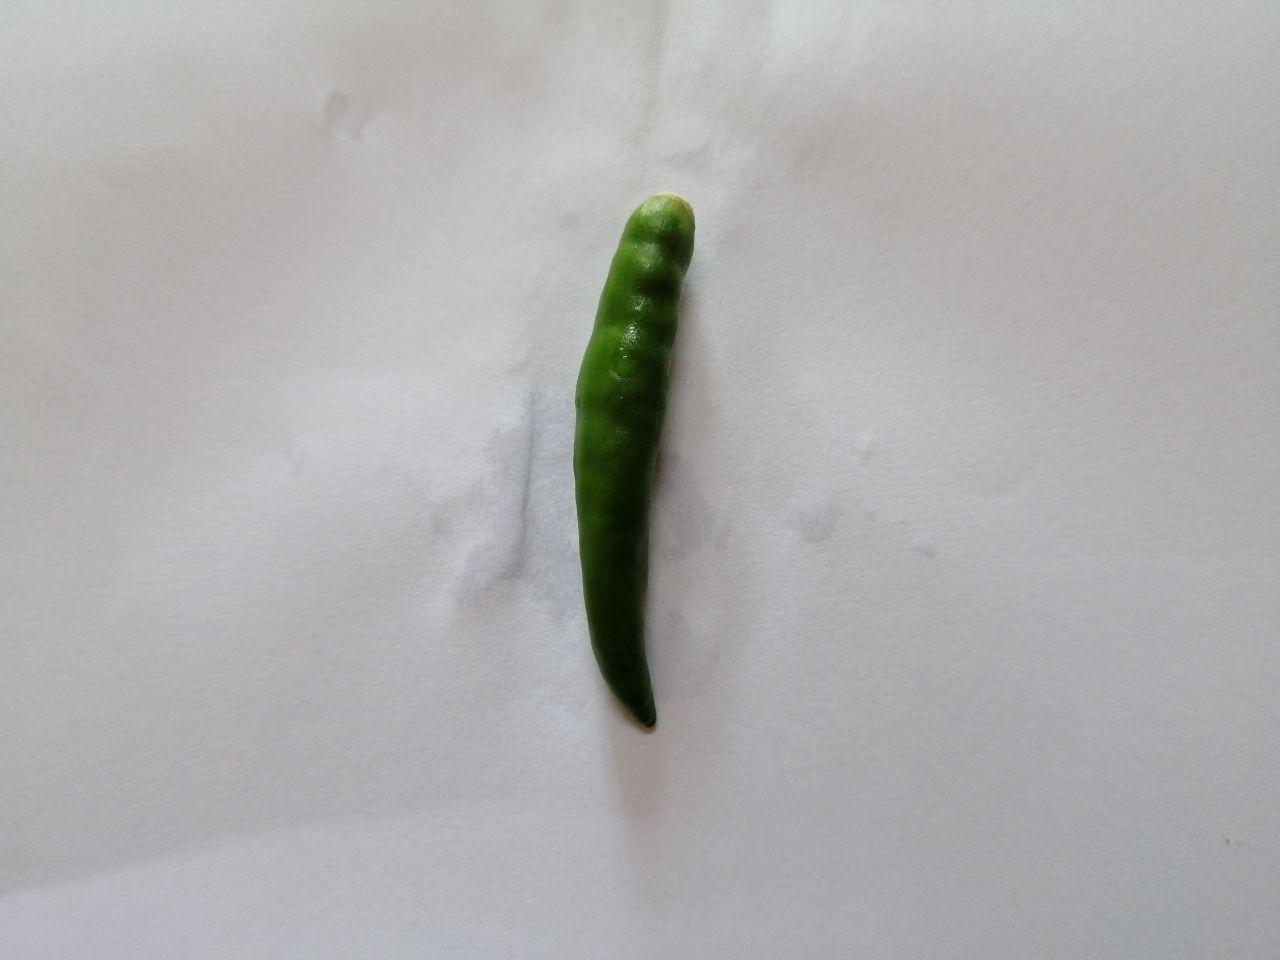lada hijau: (565, 177, 712, 752)
